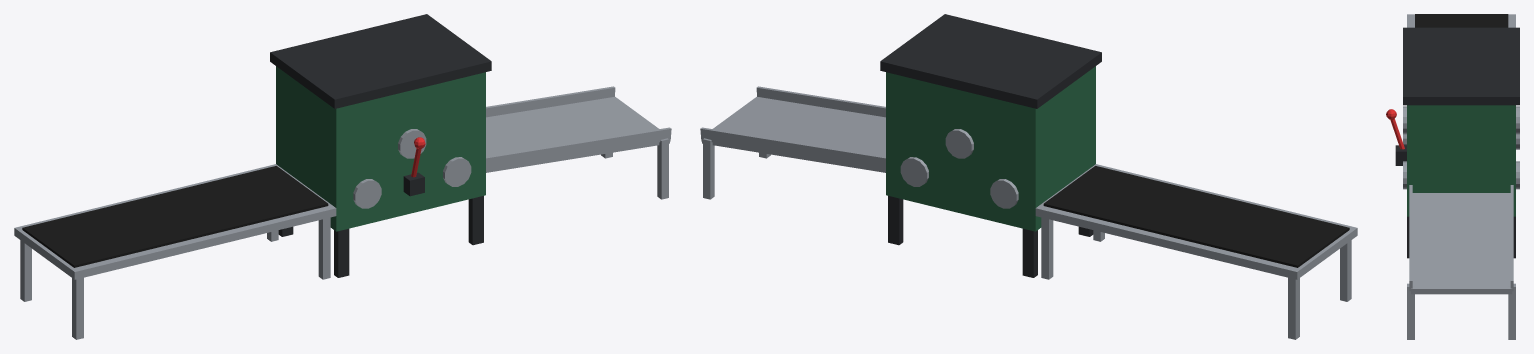
Rendered from printing_press.glb.
The picture shows the model from 3 angles, left to right: view 1: azimuth 30°, elevation 25°; view 2: azimuth 150°, elevation 25°; view 3: azimuth 270°, elevation 25°; orthographic projection. The views are drawn at different scales.
Visible parts, largest first — view 1: housing_press_green, belt_press_belt, top_press_dark, tray_press_steel, infeed_press_steel, tray_side_press_steel (×2), leg_press_steel (×3), roller_press_steel (×3), post_press_dark (×2), tray_leg_press_steel; view 2: housing_press_green, belt_press_belt, top_press_dark, tray_press_steel, infeed_press_steel, tray_side_press_steel (×2), leg_press_steel (×3), roller_press_steel (×3), post_press_dark (×2), tray_leg_press_steel; view 3: tray_press_steel, housing_press_green, top_press_dark, belt_press_belt, tray_side_press_steel (×2), tray_leg_press_steel (×2), roller_press_steel (×2), post_press_dark (×2), infeed_press_steel, lever_base_press_dark, lever_press_lever.
Part boxes in pixels (bbox=[...]): housing_press_green: bbox=[276, 66, 485, 231]; belt_press_belt: bbox=[22, 166, 328, 267]; top_press_dark: bbox=[270, 14, 491, 108]; tray_press_steel: bbox=[486, 97, 670, 172]; infeed_press_steel: bbox=[14, 164, 336, 279]; tray_side_press_steel (×2): bbox=[486, 86, 671, 169]; leg_press_steel (×3): bbox=[20, 217, 330, 339]; roller_press_steel (×3): bbox=[353, 129, 471, 208]; post_press_dark (×2): bbox=[334, 196, 483, 277]; tray_leg_press_steel: bbox=[657, 138, 668, 199]; housing_press_green: bbox=[886, 66, 1095, 231]; belt_press_belt: bbox=[1043, 166, 1349, 267]; top_press_dark: bbox=[880, 14, 1101, 108]; tray_press_steel: bbox=[701, 97, 885, 172]; infeed_press_steel: bbox=[1035, 164, 1357, 279]; tray_side_press_steel (×2): bbox=[700, 86, 885, 169]; leg_press_steel (×3): bbox=[1041, 217, 1351, 339]; roller_press_steel (×3): bbox=[900, 129, 1018, 208]; post_press_dark (×2): bbox=[888, 196, 1037, 277]; tray_leg_press_steel: bbox=[703, 138, 714, 199]; tray_press_steel: bbox=[1411, 193, 1512, 294]; housing_press_green: bbox=[1407, 105, 1515, 216]; top_press_dark: bbox=[1403, 27, 1519, 105]; belt_press_belt: bbox=[1415, 14, 1508, 27]; tray_side_press_steel (×2): bbox=[1409, 185, 1513, 291]; tray_leg_press_steel (×2): bbox=[1407, 283, 1515, 339]; roller_press_steel (×2): bbox=[1403, 106, 1519, 189]; post_press_dark (×2): bbox=[1407, 216, 1515, 258]; infeed_press_steel: bbox=[1407, 14, 1515, 27]; lever_base_press_dark: bbox=[1395, 145, 1406, 165]; lever_press_lever: bbox=[1390, 118, 1404, 149].
Size of the model in its own units: 8 by 2.32 by 1.72.
